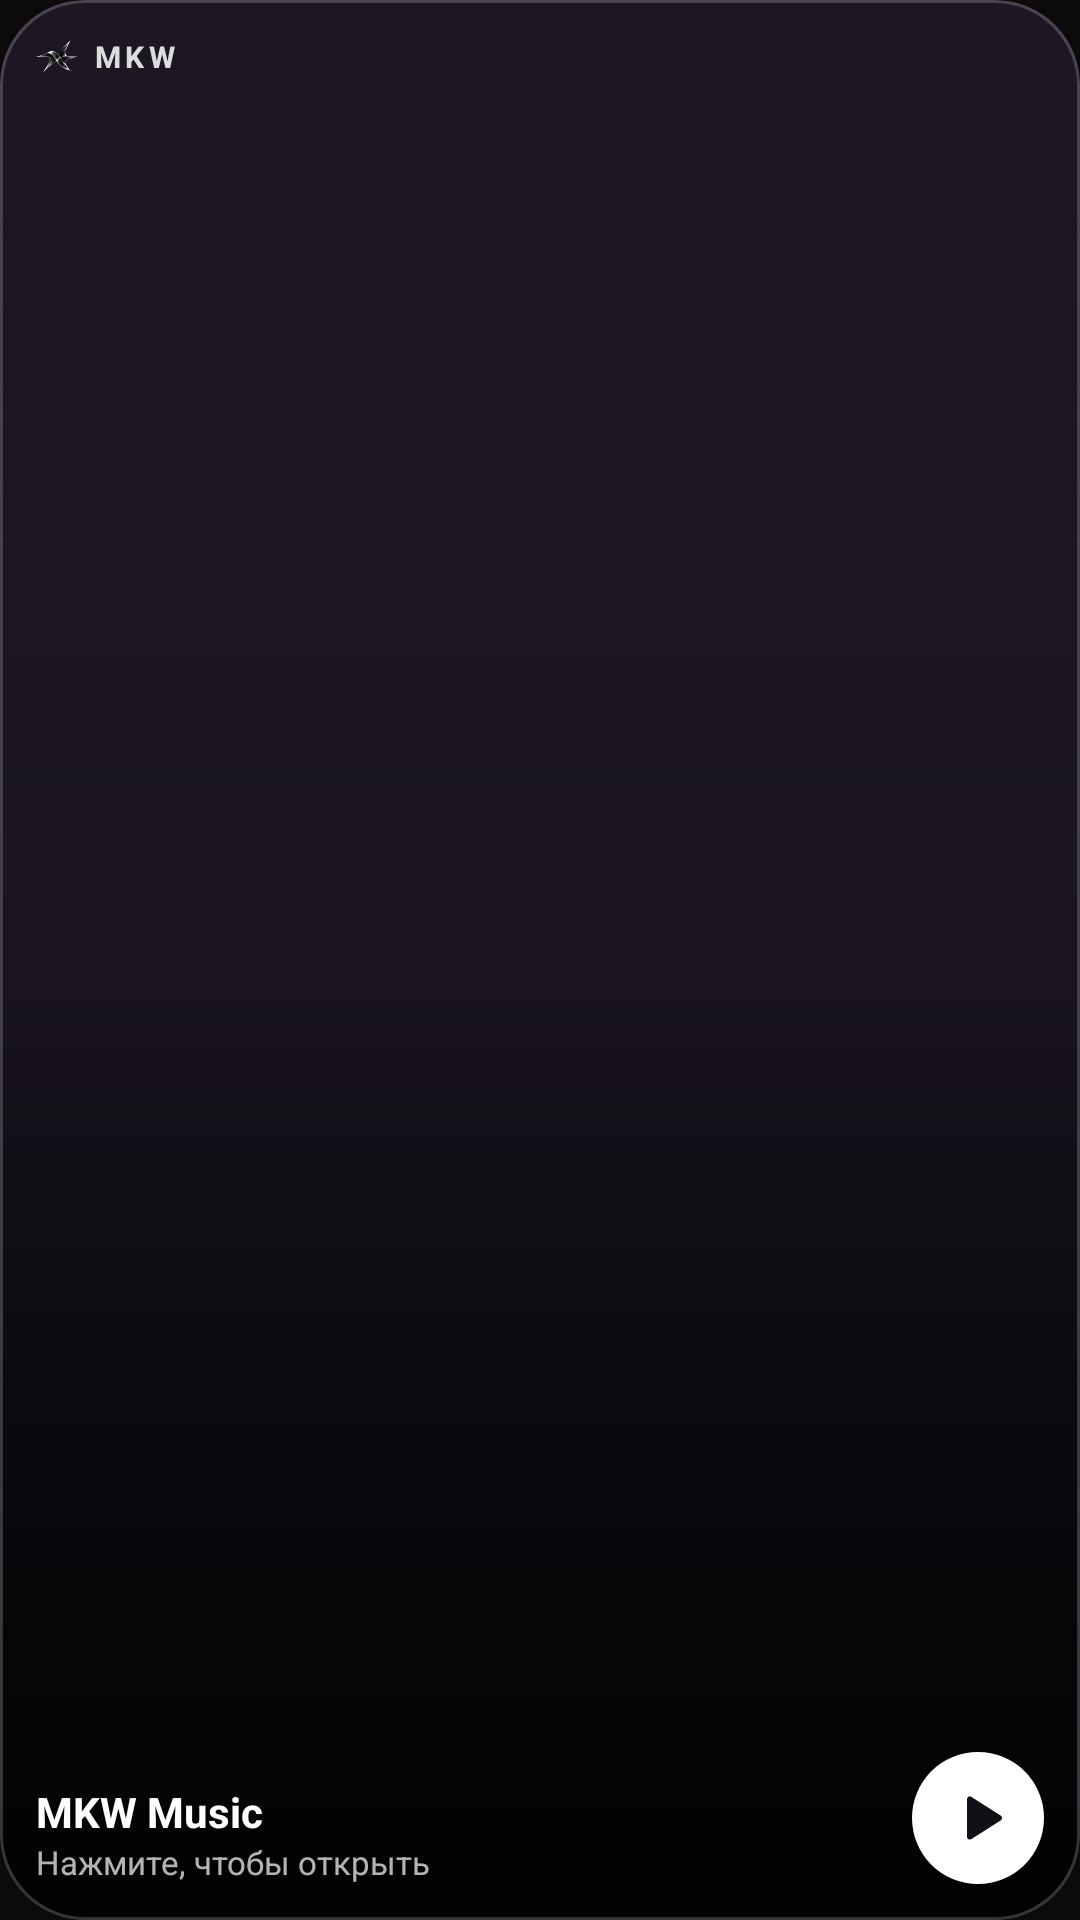

Icons on this 1080*1920 Android screen, each with the point to tap as [x,y]:
Играть или пауза: [978,1818]
